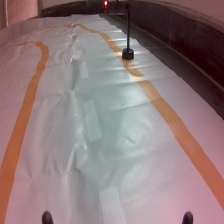red: (103, 1, 135, 61)
